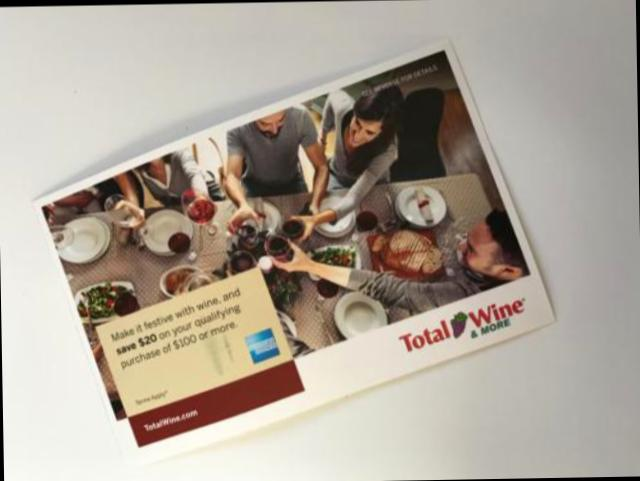cardboard paper: (35, 39, 550, 459)
